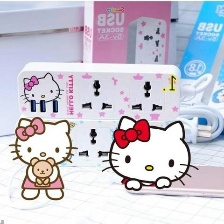book: (76, 0, 179, 108), (158, 0, 224, 142)
three_eye_plug: (16, 58, 185, 120), (62, 116, 120, 170)
